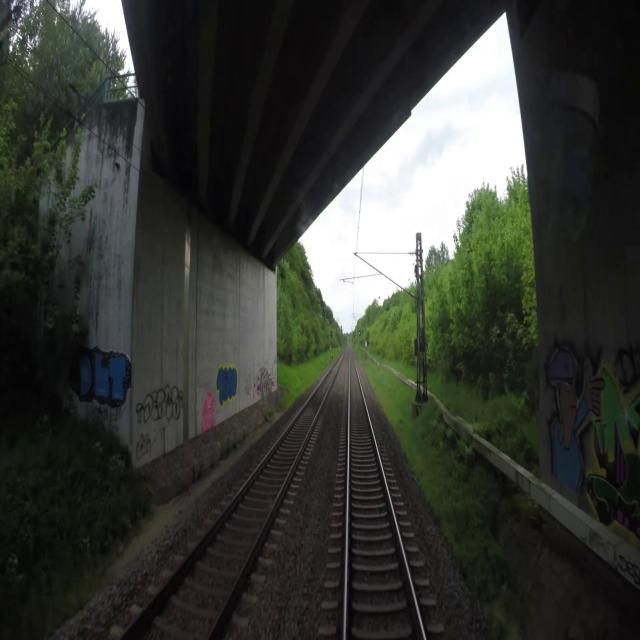rail-track: (122, 363, 337, 639), (347, 357, 421, 639)
